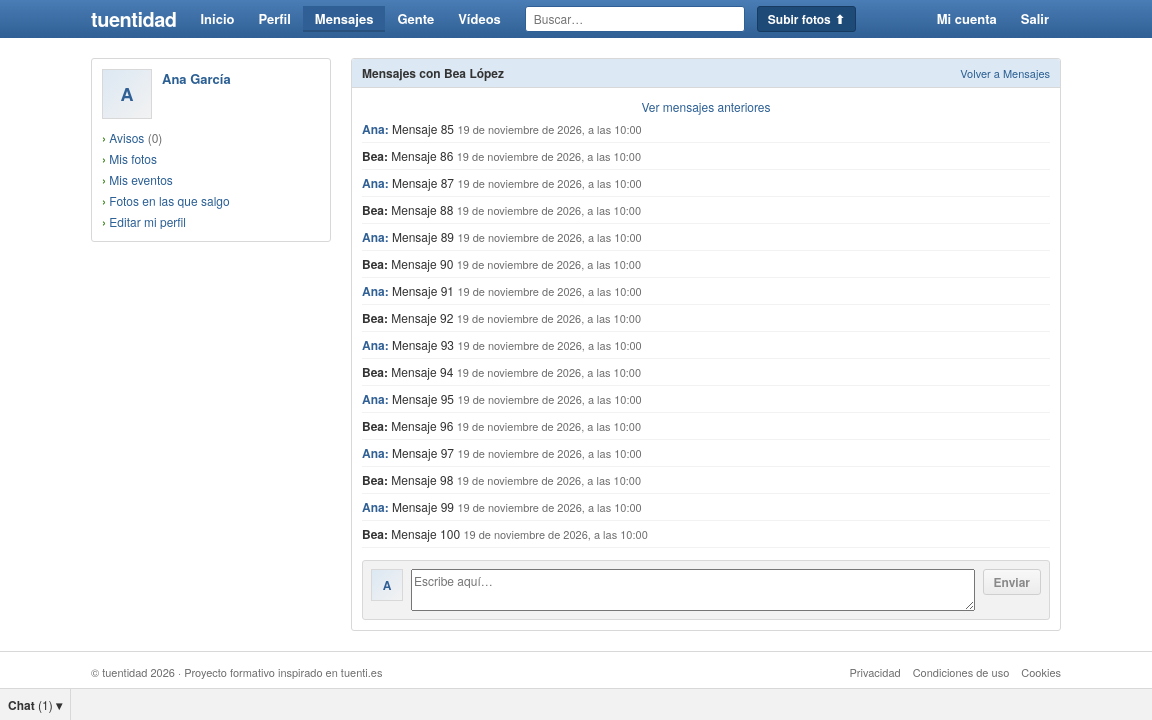
Test: Mensajes › shows a conversation, loads older messages and sends a new one
(page scrolled)
Click the button "Ver mensajes anteriores" at (706, 107), box x1=642 y1=98 x2=771 y2=116
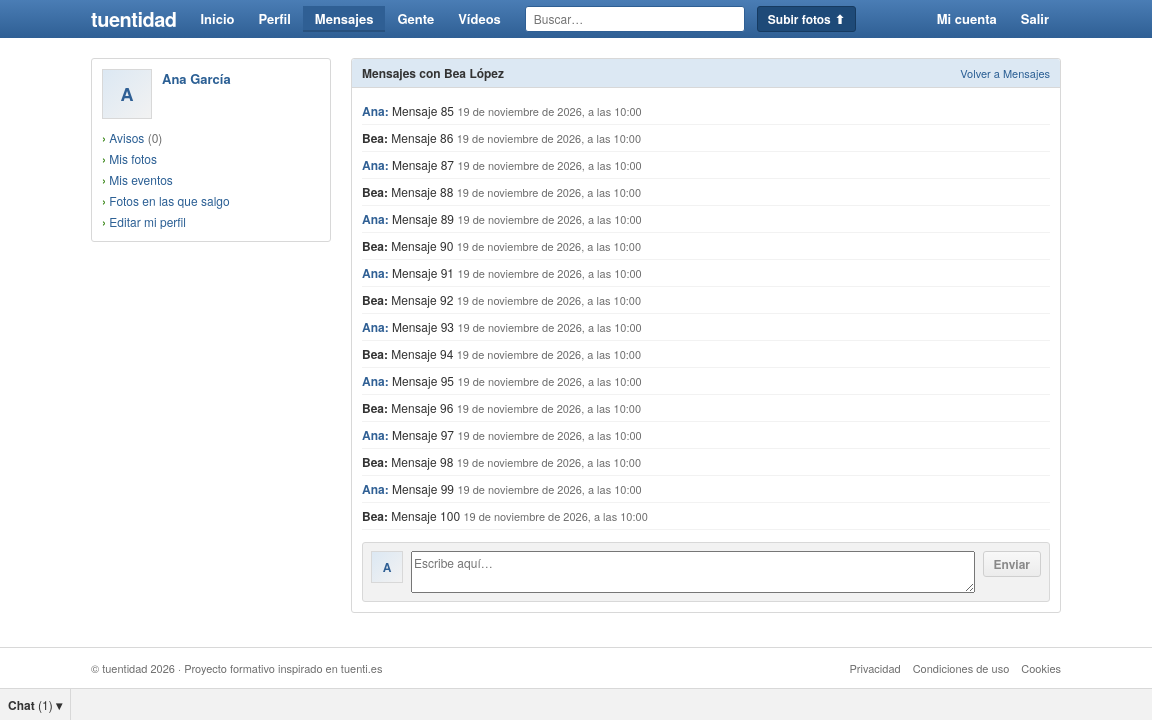
Check: the button "Ver mensajes anteriores" is gone
Type "Vale, nos vemos" into the text box named "Mensaje para Bea López" at (693, 572), box x1=411 y1=551 x2=974 y2=593
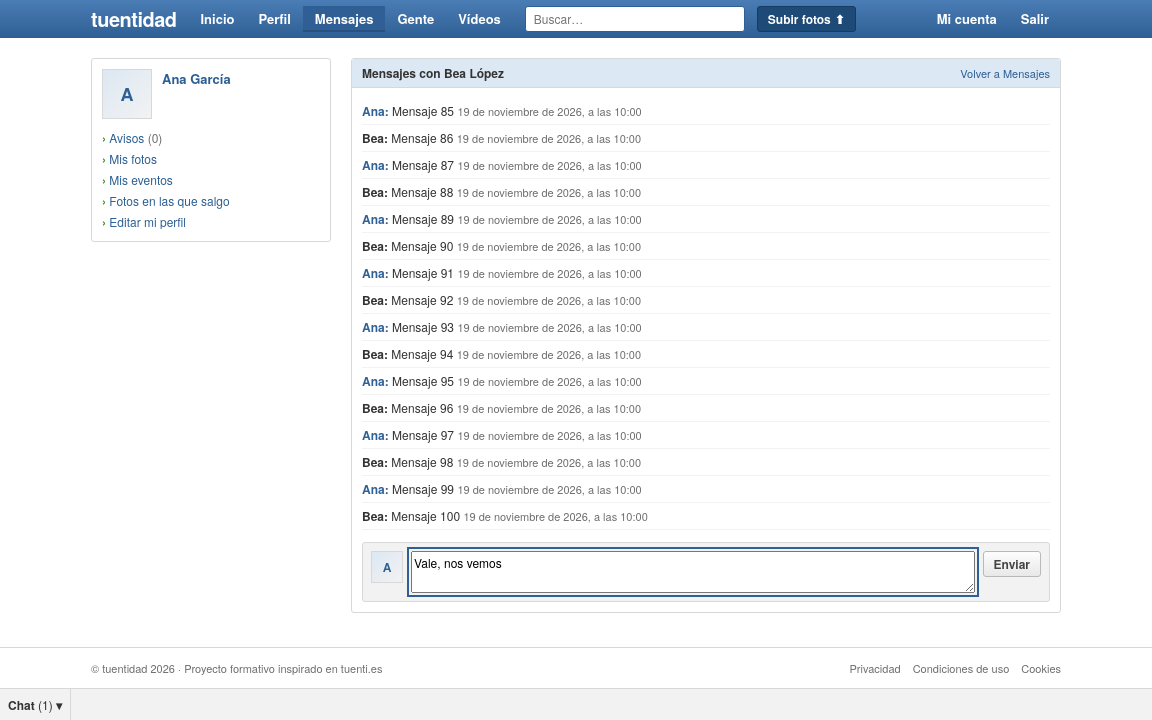
Click the button "Enviar" at (1012, 564), box x1=982 y1=551 x2=1041 y2=577
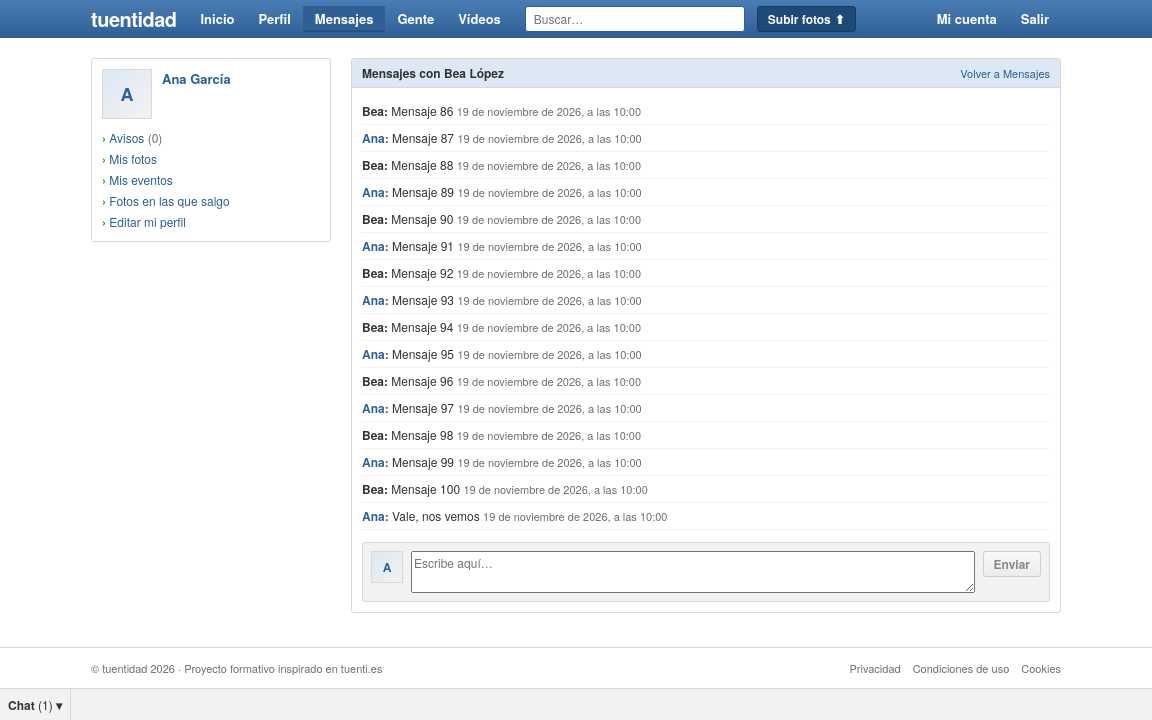
Check: the list item "Vale, nos vemos" is shown, box x1=392 y1=507 x2=480 y2=524
